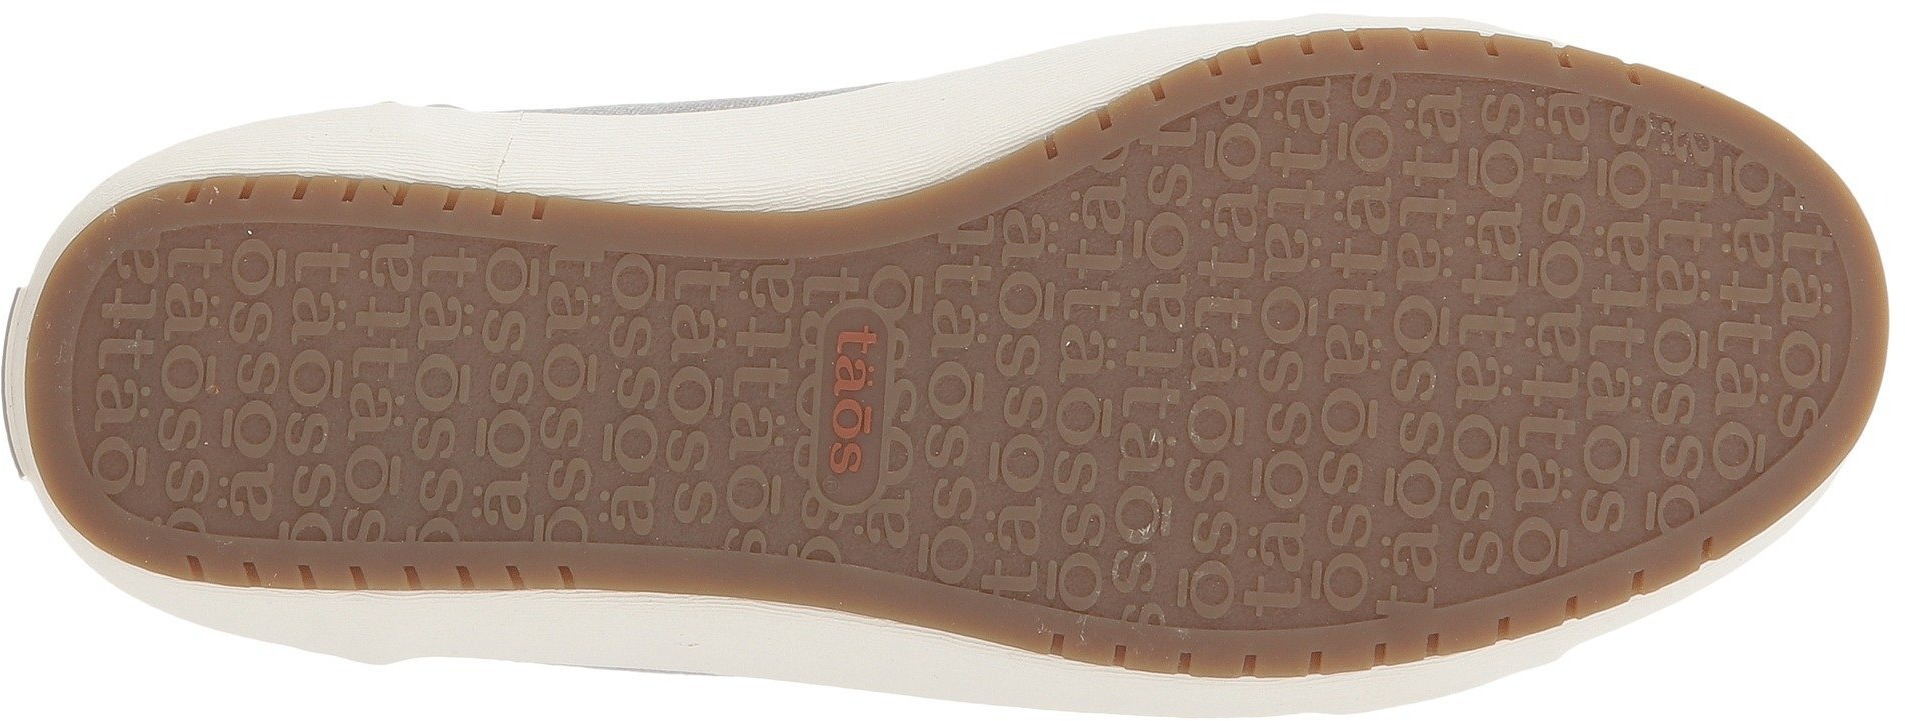text: (1217, 114, 1531, 428), (307, 246, 555, 518), (712, 281, 977, 535), (1545, 221, 1765, 457), (985, 246, 1202, 479), (97, 281, 305, 498), (1230, 434, 1406, 614), (569, 247, 702, 392), (1090, 491, 1223, 633), (572, 400, 708, 534), (1417, 449, 1543, 582), (1538, 108, 1655, 221), (1117, 143, 1212, 243), (993, 494, 1075, 599), (1554, 462, 1643, 552)
